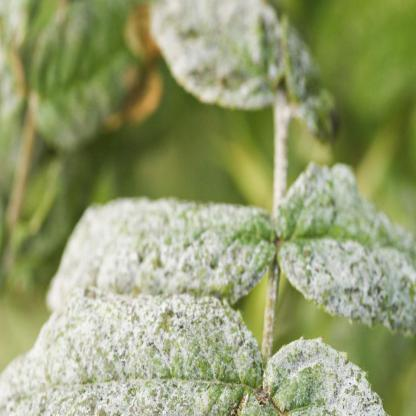Squash Powdery mildew leaf: (7, 290, 262, 416), (40, 193, 278, 316), (150, 0, 346, 140), (276, 154, 416, 332), (256, 335, 382, 415)
